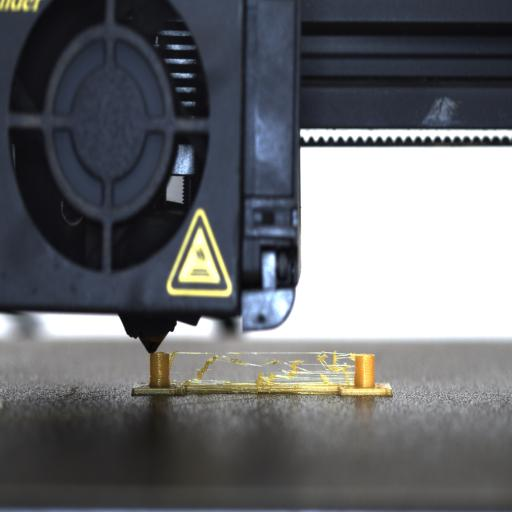stringing: (170, 349, 357, 389)
